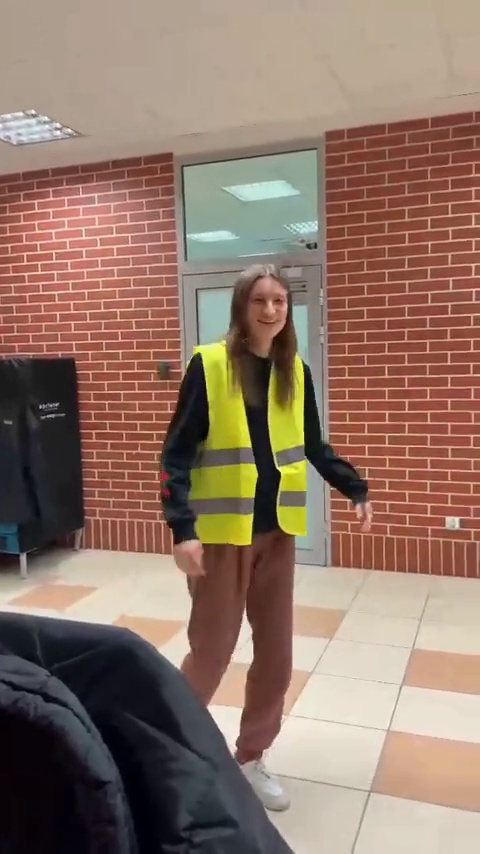vest: (172, 268, 375, 824)
